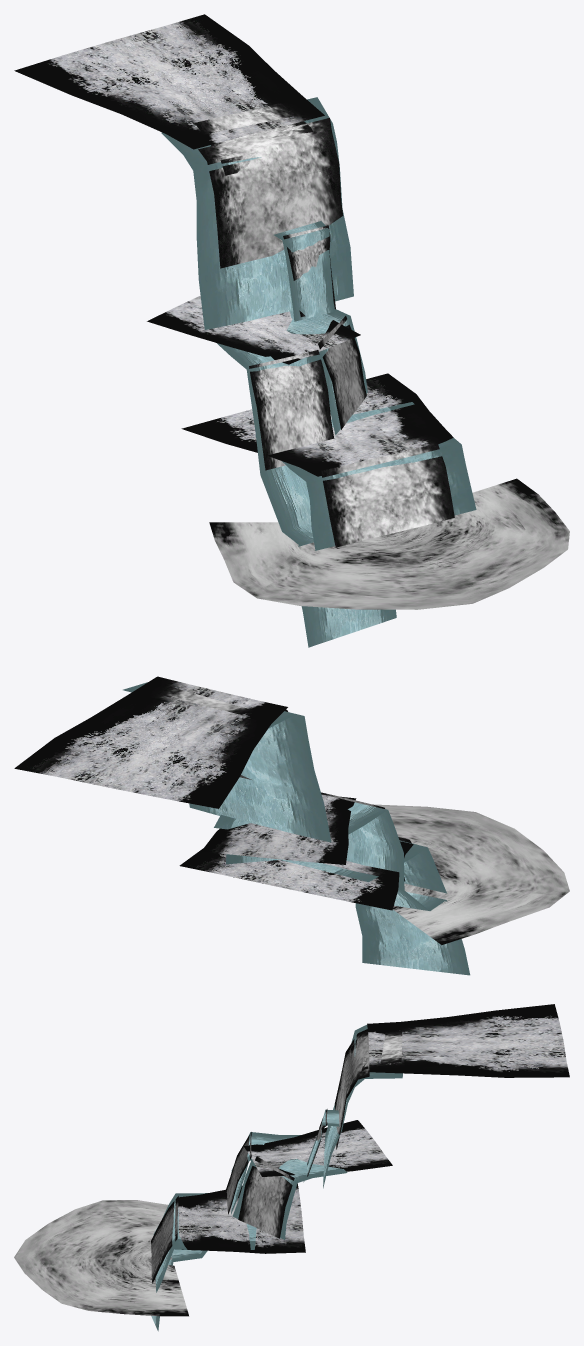
The model's file is sholazarsouthoceanwaterfall-05.obj.
3 renders of one model, top to bottom at view 1: azimuth 30°, elevation 25°; view 2: azimuth 150°, elevation 25°; view 3: azimuth 270°, elevation 25°, orthographic. The views are drawn at different scales.
Visible parts, largest first — view 1: Geoset4, Geoset5, Geoset3, Geoset0, Geoset1, Geoset2; view 2: Geoset3, Geoset0, Geoset5, Geoset1, Geoset2; view 3: Geoset5, Geoset0, Geoset1, Geoset4, Geoset3, Geoset2.
Part boxes in pixels (bbox=[...]): Geoset4: bbox=[198, 118, 454, 547]; Geoset5: bbox=[209, 478, 569, 609]; Geoset3: bbox=[161, 97, 476, 647]; Geoset0: bbox=[14, 14, 324, 149]; Geoset1: bbox=[147, 295, 453, 476]; Geoset2: bbox=[194, 102, 313, 175]; Geoset3: bbox=[123, 682, 470, 975]; Geoset0: bbox=[14, 676, 287, 808]; Geoset5: bbox=[372, 804, 569, 944]; Geoset1: bbox=[179, 794, 413, 910]; Geoset2: bbox=[159, 686, 253, 714]; Geoset5: bbox=[14, 1200, 188, 1316]; Geoset0: bbox=[367, 1004, 569, 1077]; Geoset1: bbox=[178, 1120, 392, 1253]; Geoset4: bbox=[151, 1029, 369, 1283]; Geoset3: bbox=[151, 1025, 402, 1331]; Geoset2: bbox=[351, 1030, 402, 1071].
Size of the model in its own units: 60.89 by 70.16 by 123.
4 materials, 4 textured.
